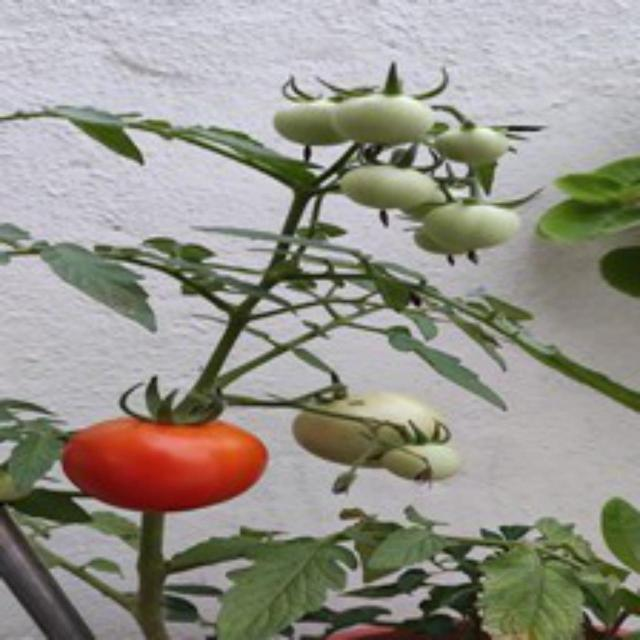tomato: (52, 413, 279, 522)
